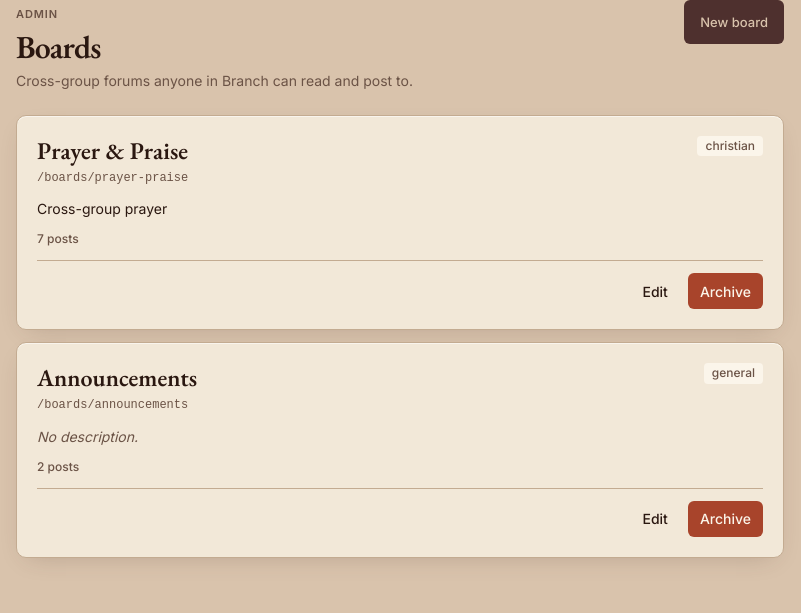
Scenario: AdminBoardsPage archive › shows inline error on archive failure
The image size is (801, 613).
Check: the link "Prayer & Praise" is shown, box [37,136,188,166]
Click the button "Archive" below "christian". click: x=725, y=291
box: [688,273,763,309]
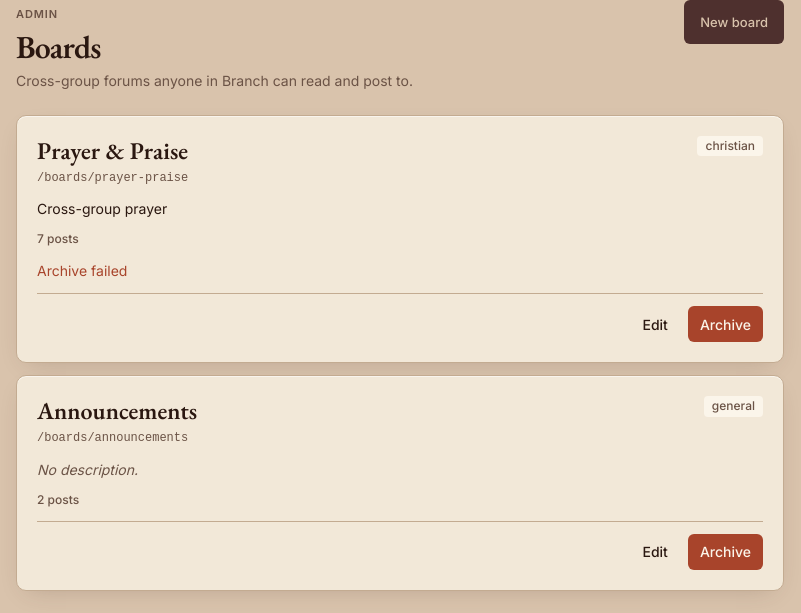
Check: the link "Prayer & Praise" is shown, box [37,136,188,166]
Check: the text "Archive failed" is shown, box [37,262,127,279]
